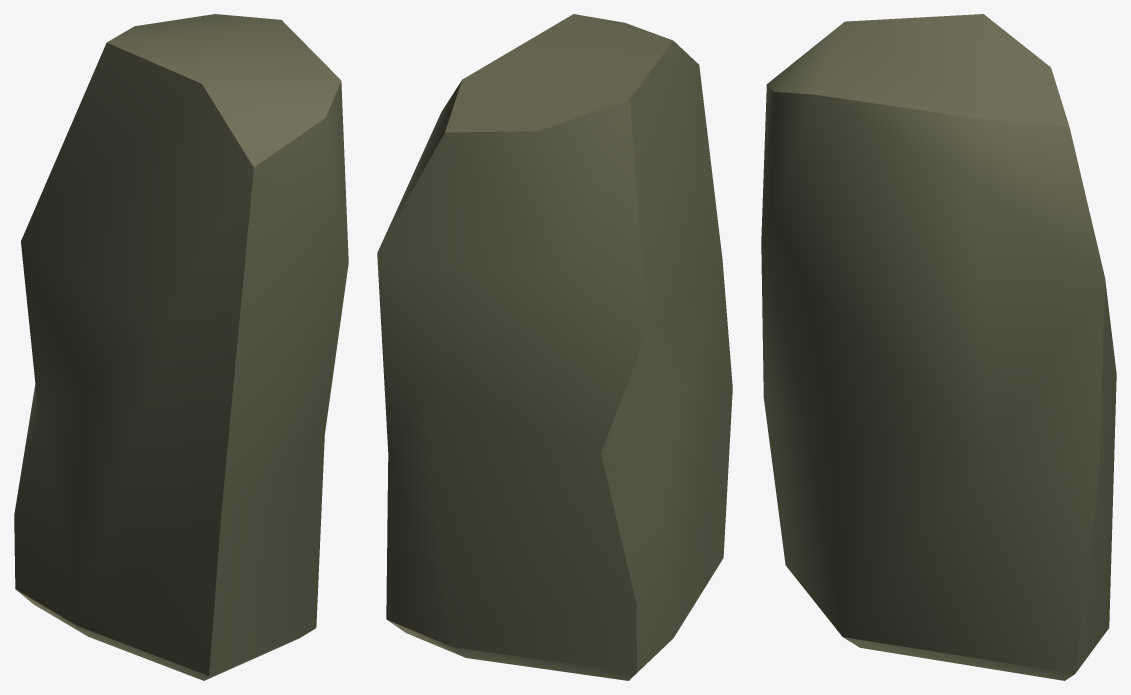
Rendered from Stone.fbx.
3 renders of one model, left to right at view 1: azimuth 30°, elevation 25°; view 2: azimuth 150°, elevation 25°; view 3: azimuth 270°, elevation 25°, orthographic. The views are drawn at different scales.
Visible parts, largest first — view 1: Stone_4_Low.001; view 2: Stone_4_Low.001; view 3: Stone_4_Low.001.
Part boxes in pixels (x1,y1,x2,y2): Stone_4_Low.001: [14, 14, 348, 680]; Stone_4_Low.001: [377, 14, 732, 680]; Stone_4_Low.001: [761, 14, 1116, 680].
Size of the model in its own units: 54.55 by 117 by 64.86.
